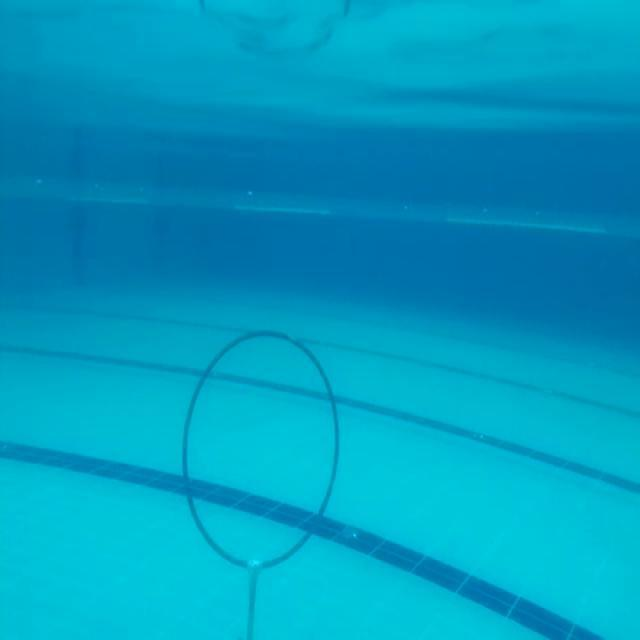Circle: (174, 324, 343, 576)
